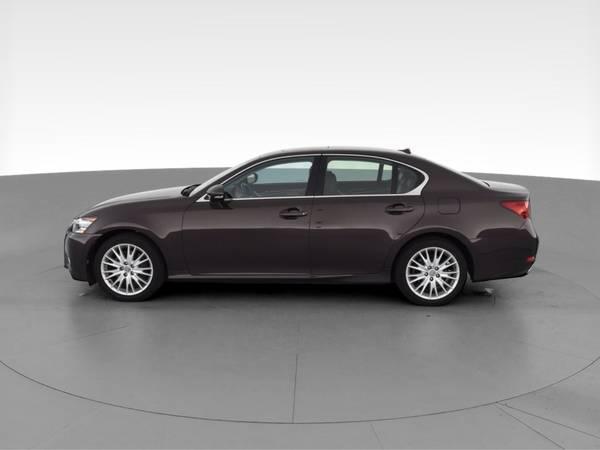Front_Bumper: (63, 228, 100, 285)
Front_Fender: (82, 197, 195, 276)
Front_Left_Door: (183, 195, 315, 278)
Front_Left_Window: (197, 153, 324, 198)
Hood: (81, 185, 193, 215)
Left_Headlight: (68, 216, 97, 236)
Left_Taillight: (502, 200, 532, 218)
Rear_Bumper: (471, 222, 540, 284)
Rear_Fender: (411, 189, 527, 244)
Rear_Left_Door: (312, 194, 425, 282)
Rear_Left_Window: (315, 154, 430, 195)
Roof: (191, 144, 488, 196)
Wheel: (92, 232, 168, 301), (398, 236, 469, 304)
